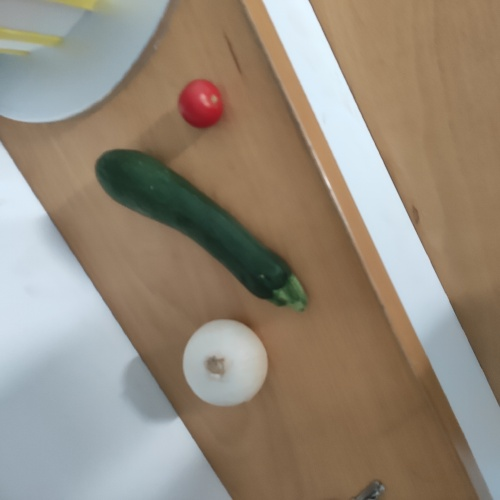cipolla: (185, 318, 269, 409)
pomodoro: (175, 77, 227, 130)
zucchine: (99, 147, 320, 312)
